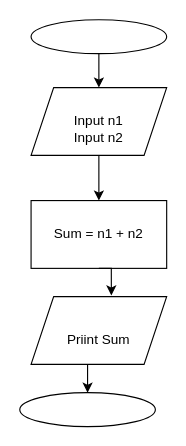
Some shapes in this 186 by 446 pixel diagram are drawn without their labels. Each missing label, with the centre of its shape:
"START" belongs at [98,36].
"STOP" belongs at [87,409].
